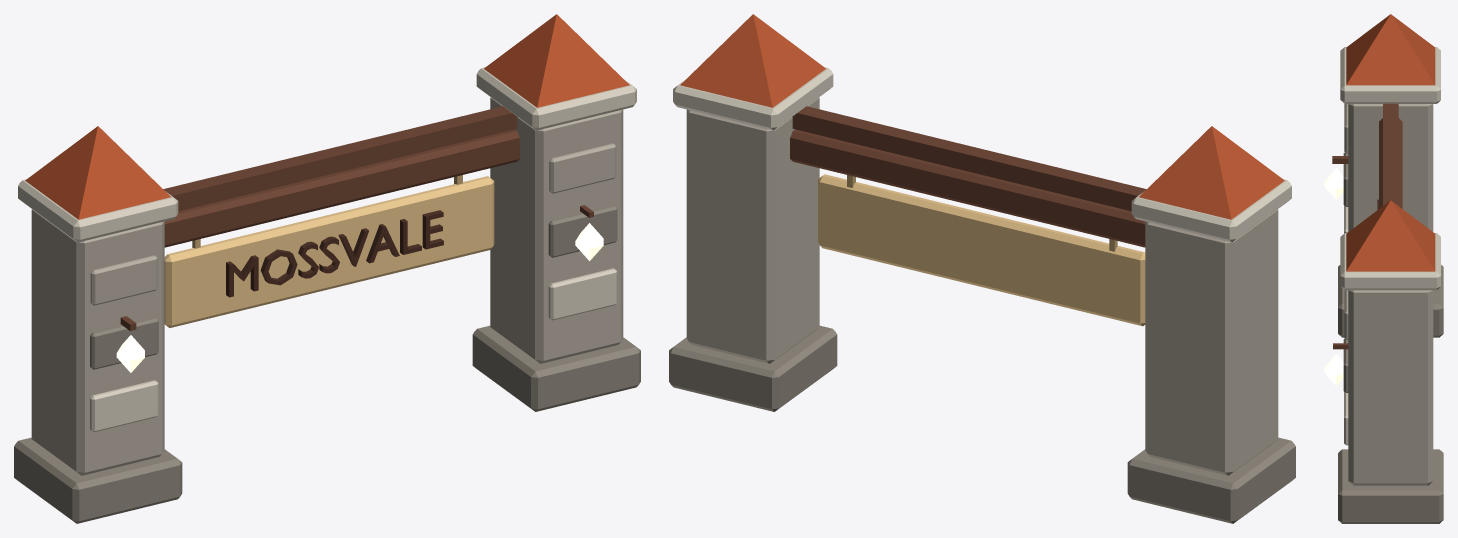
The model's file is Entrance_Arch.fbx.
3 renders of one model, left to right at view 1: azimuth 30°, elevation 25°; view 2: azimuth 150°, elevation 25°; view 3: azimuth 270°, elevation 25°, orthographic. The views are drawn at different scales.
Parts seen in each view (by area): view 1: Entrance_Arch; view 2: Entrance_Arch; view 3: Entrance_Arch.
Part boxes in pixels (box(x1,y1,x2,y2)): Entrance_Arch: box(14, 14, 640, 523); Entrance_Arch: box(669, 14, 1295, 523); Entrance_Arch: box(1324, 14, 1443, 523).
Bounding box in the file's own units: 5.21 × 3.19 × 1.14.
